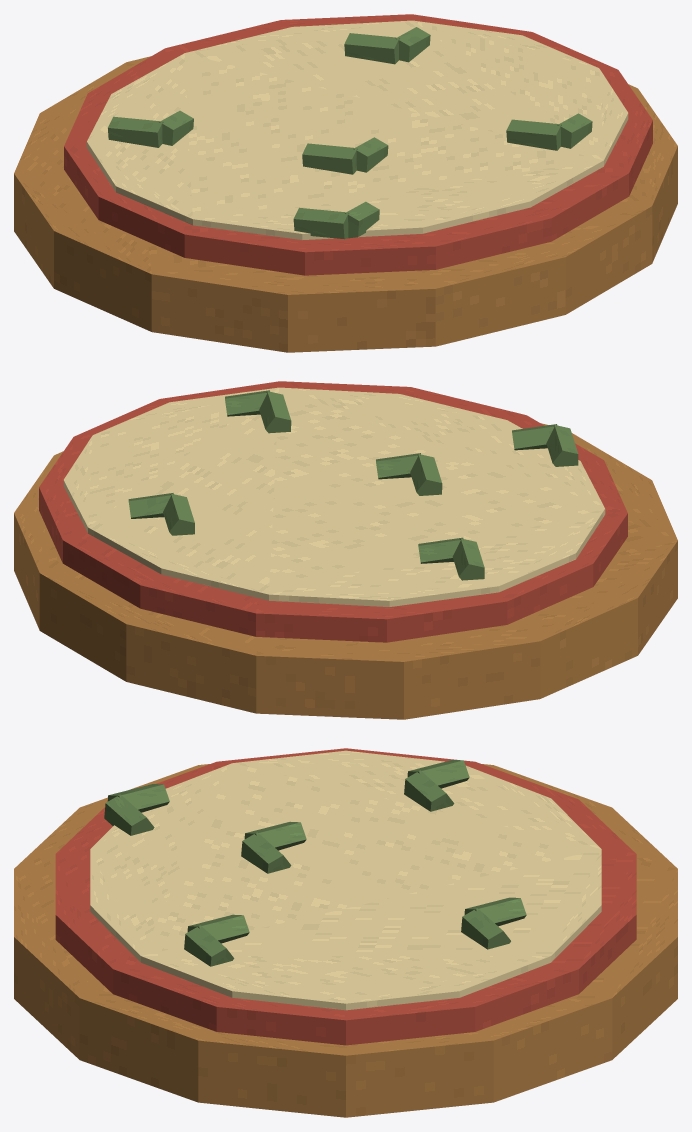
Rendered from pizza_veggy.glb.
3 renders of one model, top to bottom at view 1: azimuth 30°, elevation 25°; view 2: azimuth 150°, elevation 25°; view 3: azimuth 270°, elevation 25°, orthographic. The views are drawn at different scales.
Parts seen in each view (by area): view 1: block_melted cheese, block_baked crust, block_exposed filling, block_sliced green vegetable 0 (×5), block_sliced green vegetable 1 (×5); view 2: block_melted cheese, block_baked crust, block_exposed filling, block_sliced green vegetable 0 (×5), block_sliced green vegetable 1 (×5); view 3: block_melted cheese, block_baked crust, block_exposed filling, block_sliced green vegetable 1 (×5), block_sliced green vegetable 0 (×5).
Boxes of the visible parts, bbox=[...] form: block_melted cheese: bbox=[86, 20, 628, 239]; block_baked crust: bbox=[14, 56, 677, 352]; block_exposed filling: bbox=[64, 14, 652, 275]; block_sliced green vegetable 0 (×5): bbox=[108, 33, 561, 239]; block_sliced green vegetable 1 (×5): bbox=[159, 27, 592, 238]; block_melted cheese: bbox=[63, 387, 605, 606]; block_baked crust: bbox=[14, 423, 677, 719]; block_exposed filling: bbox=[39, 381, 627, 642]; block_sliced green vegetable 0 (×5): bbox=[163, 391, 578, 580]; block_sliced green vegetable 1 (×5): bbox=[128, 390, 556, 563]; block_melted cheese: bbox=[90, 750, 601, 1010]; block_baked crust: bbox=[14, 764, 677, 1117]; block_exposed filling: bbox=[55, 748, 636, 1045]; block_sliced green vegetable 1 (×5): bbox=[104, 770, 510, 966]; block_sliced green vegetable 0 (×5): bbox=[107, 760, 526, 943].
Bounding box in the file's own units: 0.1203 × 0.0211 × 0.1104.
Materials: 1 (1 with a texture image).
